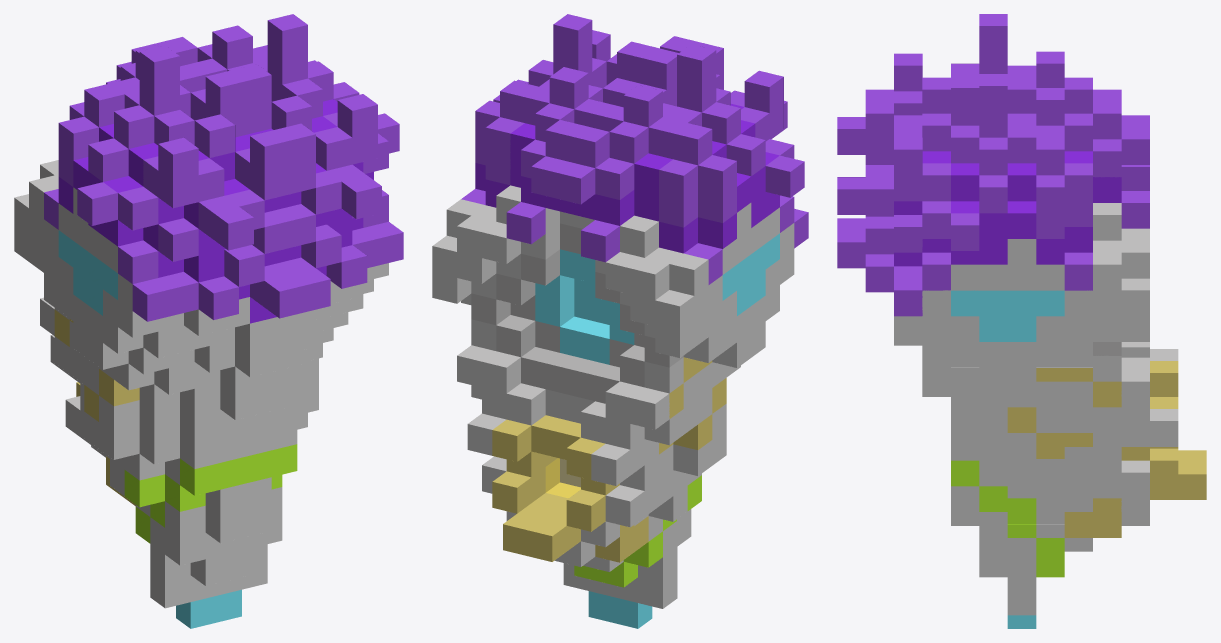
The model's file is Terra Lord Upper Body.obj.
3 views of the same model, side by side, from view 1: azimuth 30°, elevation 25°; view 2: azimuth 150°, elevation 25°; view 3: azimuth 270°, elevation 25° (orthographic). The views are drawn at different scales.
Parts seen in each view (by area): view 1: Terra Lord Upper Body; view 2: Terra Lord Upper Body; view 3: Terra Lord Upper Body.
Part boxes in pixels (bbox=[...]): Terra Lord Upper Body: bbox=[14, 14, 403, 628]; Terra Lord Upper Body: bbox=[432, 14, 808, 628]; Terra Lord Upper Body: bbox=[837, 14, 1206, 628].
Bounding box in the file's own units: 12 × 22 × 13.
Materials: 1 (1 with a texture image).
